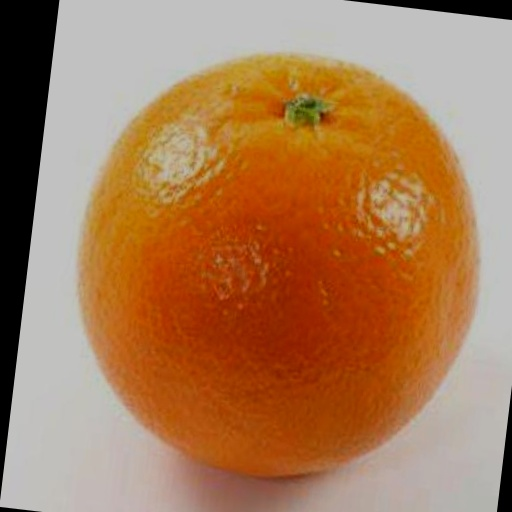fruit: (79, 55, 477, 475)
